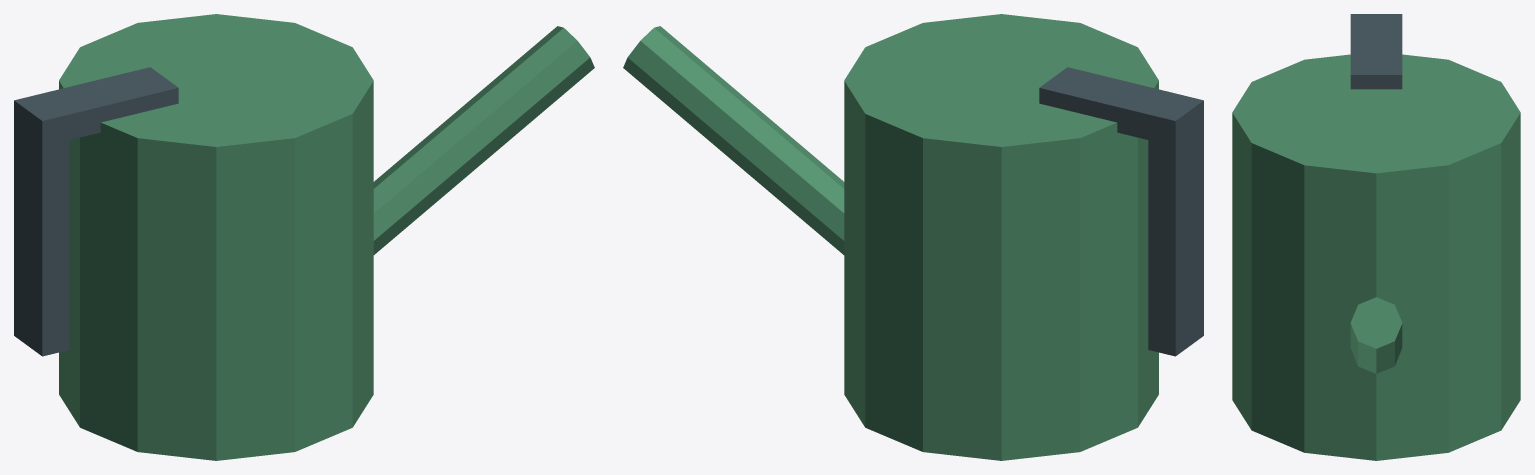
Rendered from watering_can.glb.
3 renders of one model, left to right at view 1: azimuth 30°, elevation 25°; view 2: azimuth 150°, elevation 25°; view 3: azimuth 270°, elevation 25°, orthographic. The views are drawn at different scales.
Visible parts, largest first — view 1: watering_can; view 2: watering_can; view 3: watering_can.
Boxes of the visible parts, x1,y1,x2,y2 form: watering_can: [14, 14, 594, 460]; watering_can: [623, 14, 1203, 460]; watering_can: [1232, 14, 1520, 460].
Bounding box in the file's own units: 1.03 × 0.5775 × 0.5.
